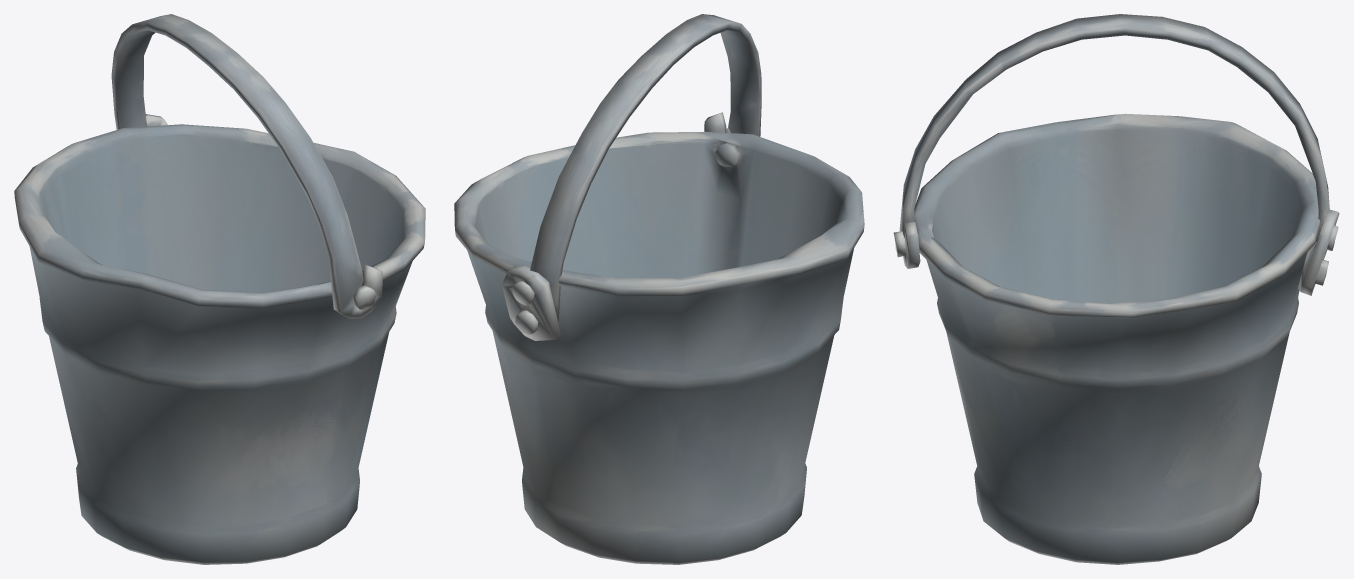
Rendered from bucket.glb.
3 views of the same model, side by side, from view 1: azimuth 30°, elevation 25°; view 2: azimuth 150°, elevation 25°; view 3: azimuth 270°, elevation 25° (orthographic).
Parts seen in each view (by area): view 1: tripo_node_b273ef03-9163-4fb8-bd10-e06d35f3a926; view 2: tripo_node_b273ef03-9163-4fb8-bd10-e06d35f3a926; view 3: tripo_node_b273ef03-9163-4fb8-bd10-e06d35f3a926.
Part boxes in pixels (box(x1,y1,x2,y2)): tripo_node_b273ef03-9163-4fb8-bd10-e06d35f3a926: box(14, 14, 425, 564); tripo_node_b273ef03-9163-4fb8-bd10-e06d35f3a926: box(454, 14, 864, 564); tripo_node_b273ef03-9163-4fb8-bd10-e06d35f3a926: box(893, 14, 1339, 564).
Size of the model in its own units: 0.8066 by 0.998 by 0.8418.
Materials: 1 (1 with a texture image).
